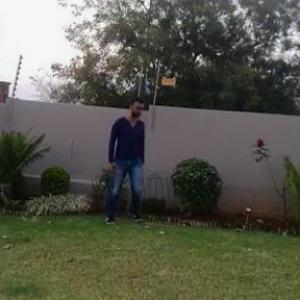follow: (104, 97, 146, 227)
